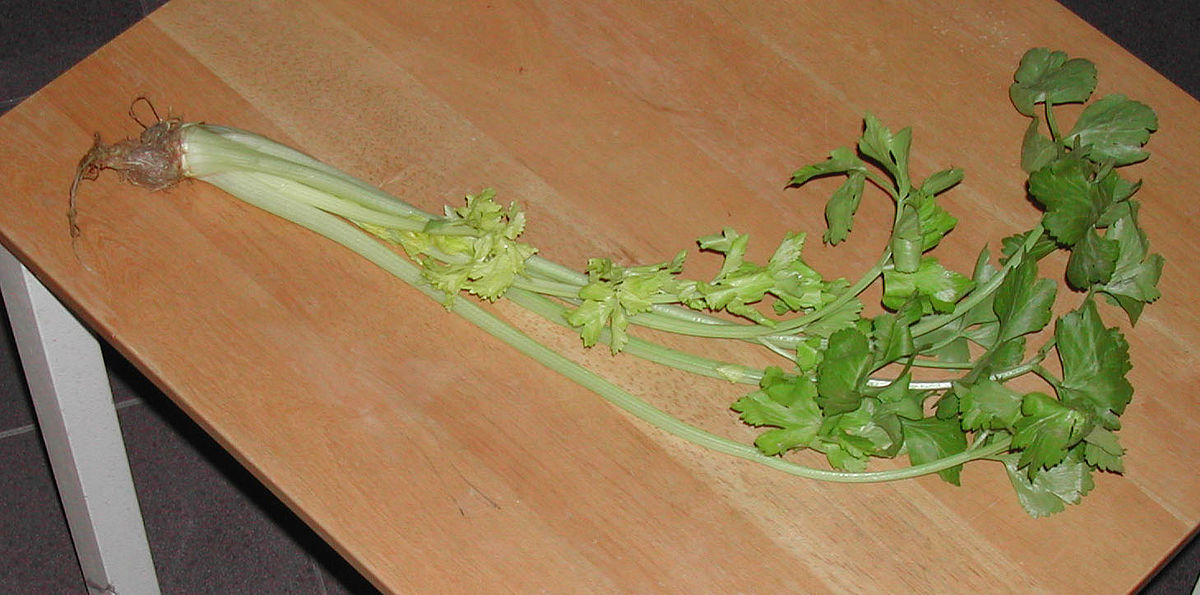Seledri: (78, 57, 1192, 517)
